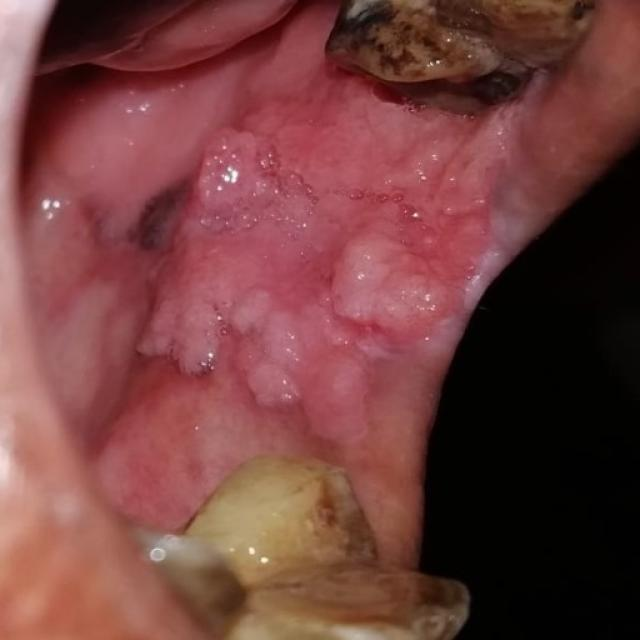cancer-detection: (110, 81, 552, 523)
processing_area: (20, 4, 637, 562)
